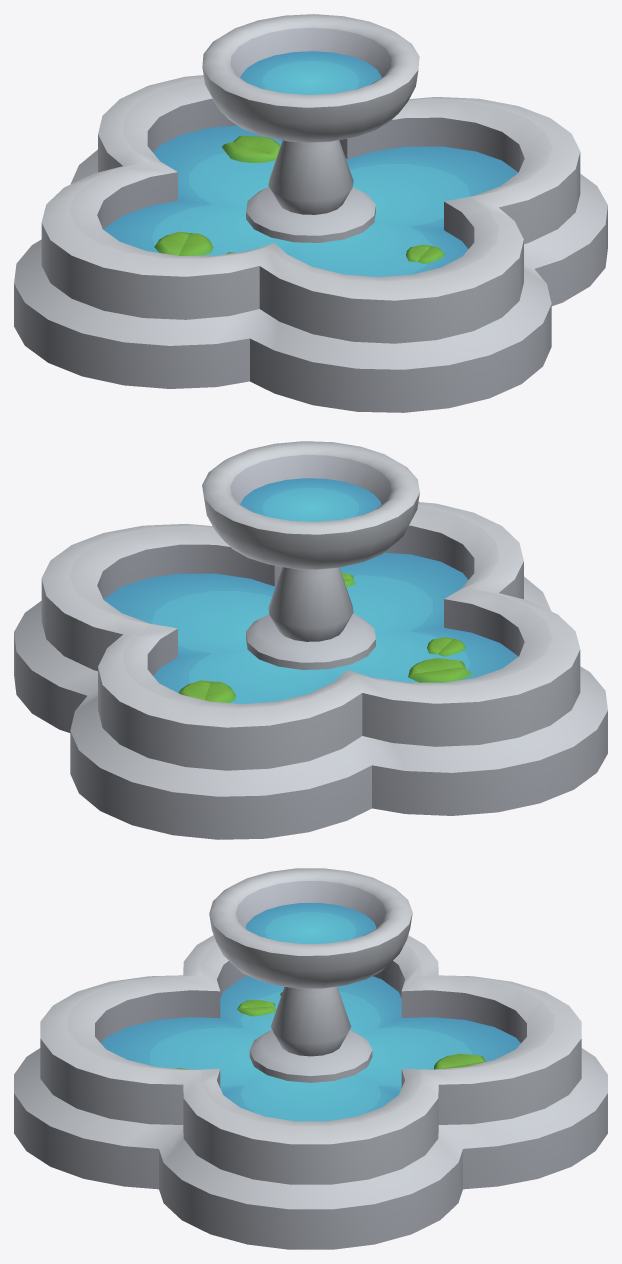
File: fountain-Cwnf80Px.glb
3 views of the same model, one above another, from view 1: azimuth 30°, elevation 25°; view 2: azimuth 150°, elevation 25°; view 3: azimuth 270°, elevation 25° (orthographic). The views are drawn at different scales.
Visible parts, largest first — view 1: fountain, fountain_water, fountain_leaves; view 2: fountain, fountain_water, fountain_leaves; view 3: fountain, fountain_water, fountain_leaves.
Boxes of the visible parts, left/top/right/bottom form: fountain: left=14, top=14, right=607, bottom=412; fountain_water: left=103, top=51, right=518, bottom=276; fountain_leaves: left=154, top=135, right=444, bottom=263; fountain: left=14, top=441, right=607, bottom=839; fountain_water: left=103, top=478, right=518, bottom=703; fountain_leaves: left=179, top=573, right=472, bottom=702; fountain: left=14, top=868, right=607, bottom=1249; fountain_water: left=101, top=903, right=520, bottom=1121; fountain_leaves: left=177, top=992, right=485, bottom=1069.
Bounding box in the file's own units: 4 × 1.6 × 4.
Materials: 1 (1 with a texture image).
